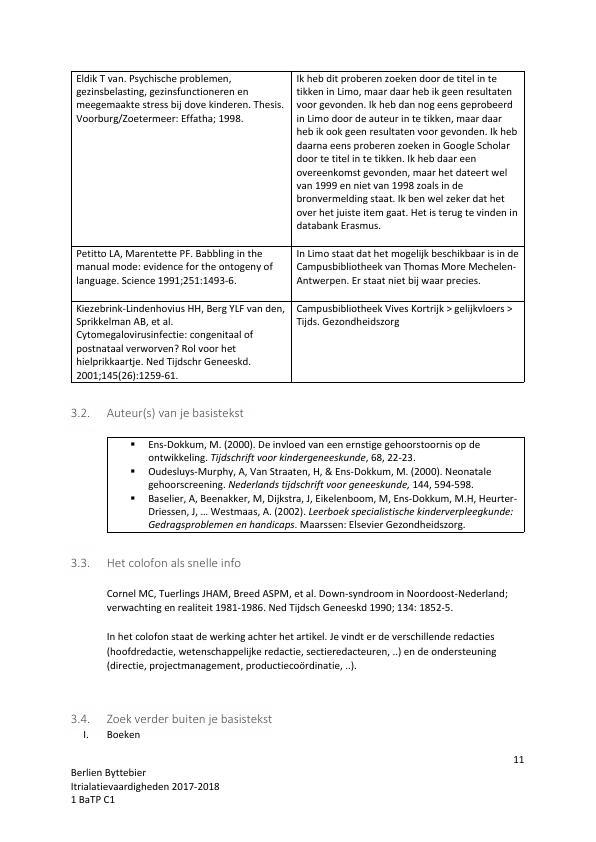table: (66, 67, 531, 389)
text: (143, 440, 517, 530), (103, 628, 511, 674), (105, 586, 514, 616), (64, 767, 226, 809), (64, 552, 244, 571), (69, 406, 251, 424), (67, 712, 278, 727), (77, 727, 144, 741)
